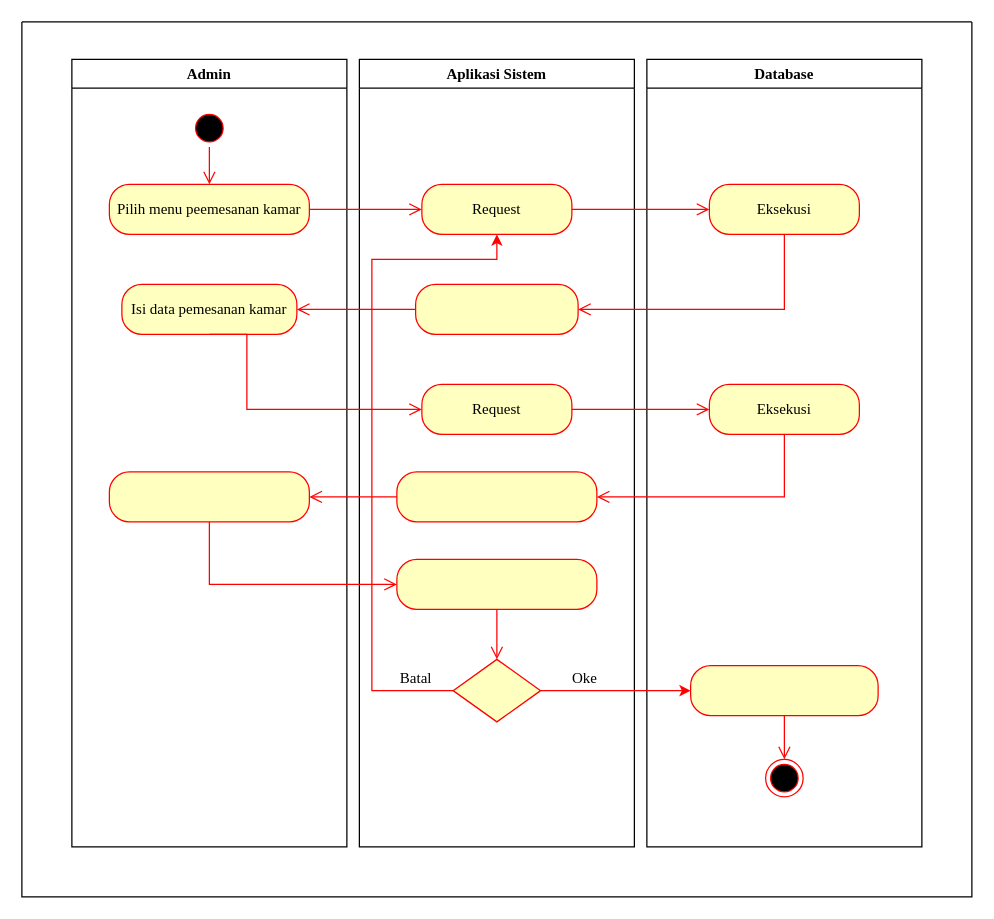
This 994x919 diagram has some shape labels left out. Each missing label, with the centre of its shape:
"Menampilkan data pemesanan" goes at (x=496, y=496).
"Menu pemesanan kamar" goes at (x=496, y=308).
"Menyimpan pemesanan kamar" goes at (x=496, y=583).
"Pemesanan kamar disimpan" goes at (x=783, y=690).
"Simpan data pemesanan kamar" goes at (x=208, y=496).
